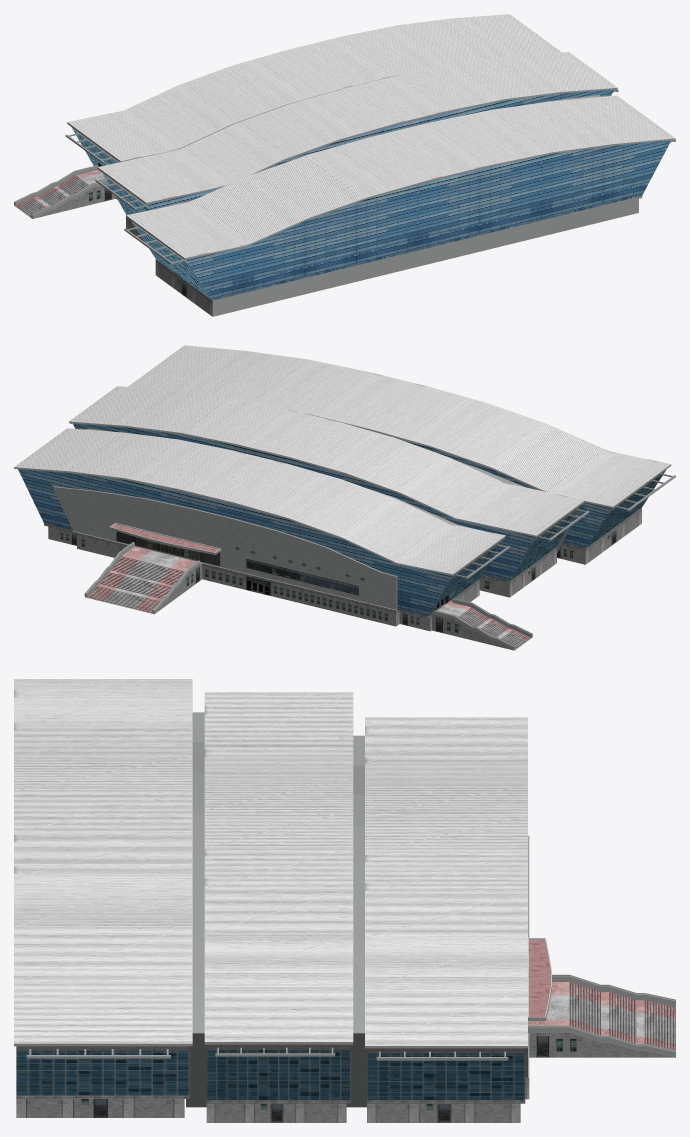
3 views of the same model, one above another, from view 1: azimuth 30°, elevation 25°; view 2: azimuth 150°, elevation 25°; view 3: azimuth 270°, elevation 25° (orthographic). The views are drawn at different scales.
Parts seen in each view (by area): view 1: HN1327_CungDienKinhMyDinh; view 2: HN1327_CungDienKinhMyDinh; view 3: HN1327_CungDienKinhMyDinh.
Boxes of the visible parts, bbox=[...] form: HN1327_CungDienKinhMyDinh: bbox=[14, 14, 675, 316]; HN1327_CungDienKinhMyDinh: bbox=[14, 345, 675, 650]; HN1327_CungDienKinhMyDinh: bbox=[14, 679, 675, 1122].
Size of the model in its own units: 136 by 22.47 by 100.
1 material, 1 textured.
